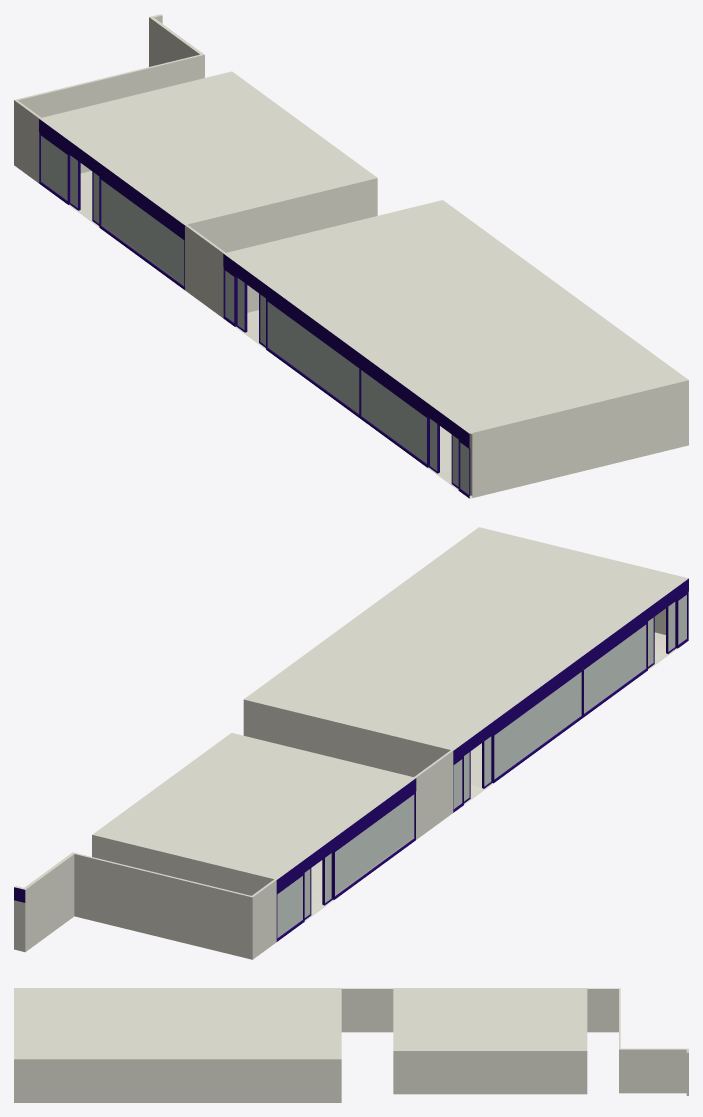
File: shop 8.FBX
The picture shows the model from 3 angles, top to bottom: view 1: azimuth 30°, elevation 25°; view 2: azimuth 150°, elevation 25°; view 3: azimuth 270°, elevation 25°; orthographic projection. The views are drawn at different scales.
Visible parts, largest first — view 1: shop 8; view 2: shop 8; view 3: shop 8.
Boxes of the visible parts, box(x1,y1,x2,y2) form: shop 8: box(14, 14, 688, 498); shop 8: box(14, 527, 688, 959); shop 8: box(14, 988, 688, 1102).
Size of the model in its own units: 588 by 167 by 2354.
1 material, 1 textured.
